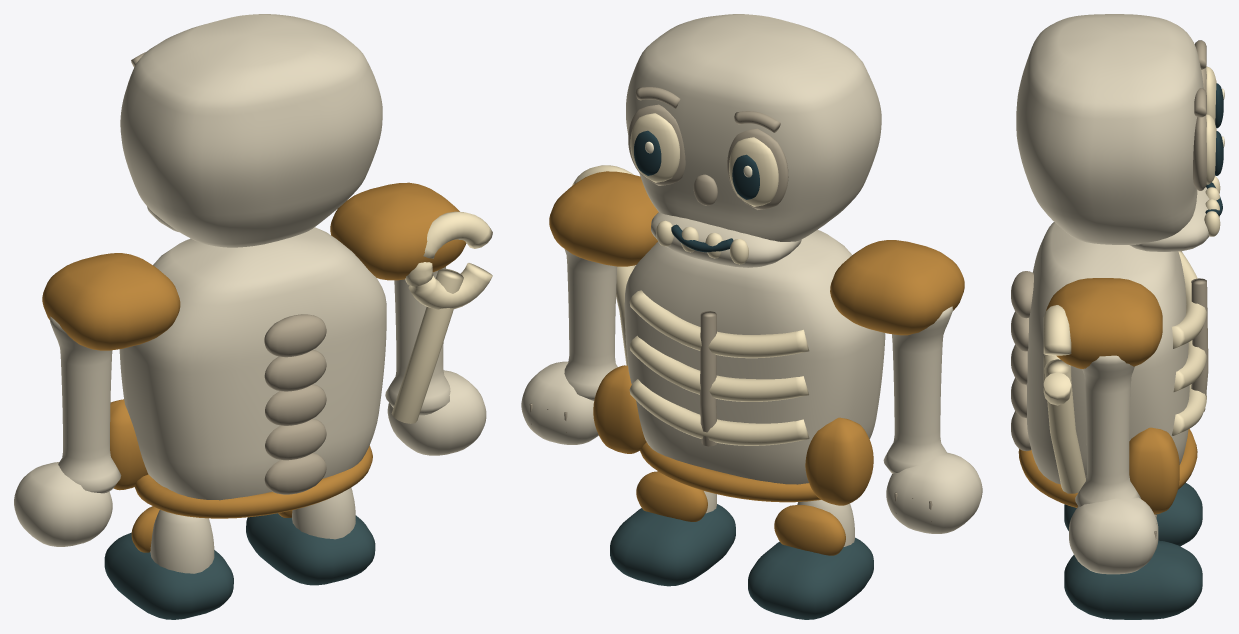
File: kaka_art18.glb
3 views of the same model, side by side, from view 1: azimuth 30°, elevation 25°; view 2: azimuth 150°, elevation 25°; view 3: azimuth 270°, elevation 25° (orthographic). The views are drawn at different scales.
Visible parts, largest first — view 1: KakaHead_Bone ivory, KakaBody_Bone ivory, KakaBody_Warm seam, KakaBody_Bone warm edge, KakaBody_Cream ceramic, KakaArmL_Bone ivory, KakaLegL_Soft sole, KakaLegR_Soft sole, KakaFistL_Bone ivory, KakaFistR_Bone ivory, KakaLegL_Bone ivory, KakaArmR_Bone ivory (+2 smaller); view 2: KakaHead_Bone ivory, KakaBody_Bone ivory, KakaBody_Warm seam, KakaBody_Cream ceramic, KakaLegR_Soft sole, KakaLegL_Soft sole, KakaArmL_Bone ivory, KakaArmR_Bone ivory, KakaFistL_Bone ivory, KakaHead_Cream ceramic, KakaFistR_Bone ivory, KakaHead_Bone warm edge (+5 smaller); view 3: KakaHead_Bone ivory, KakaBody_Bone ivory, KakaBody_Warm seam, KakaBody_Cream ceramic, KakaLegR_Soft sole, KakaArmR_Bone ivory, KakaFistR_Bone ivory, KakaBody_Bone warm edge, KakaLegL_Soft sole, KakaHead_Cream ceramic, KakaHead_Bone warm edge, KakaHead_Ink eyes (+1 smaller).
Boxes of the visible parts, left/top/right/bottom form: KakaHead_Bone ivory: left=120, top=14, right=382, bottom=247; KakaBody_Bone ivory: left=119, top=227, right=386, bottom=500; KakaBody_Warm seam: left=42, top=182, right=466, bottom=518; KakaBody_Bone warm edge: left=264, top=314, right=326, bottom=494; KakaBody_Cream ceramic: left=391, top=211, right=492, bottom=423; KakaArmL_Bone ivory: left=50, top=316, right=121, bottom=493; KakaLegL_Soft sole: left=104, top=532, right=233, bottom=619; KakaLegR_Soft sole: left=246, top=513, right=375, bottom=585; KakaFistL_Bone ivory: left=14, top=462, right=112, bottom=546; KakaFistR_Bone ivory: left=387, top=370, right=486, bottom=455; KakaLegL_Bone ivory: left=150, top=509, right=214, bottom=573; KakaArmR_Bone ivory: left=385, top=266, right=450, bottom=415; KakaHead_Bone ivory: left=626, top=14, right=881, bottom=267; KakaBody_Bone ivory: left=624, top=229, right=885, bottom=484; KakaBody_Warm seam: left=549, top=171, right=964, bottom=505; KakaBody_Cream ceramic: left=572, top=165, right=809, bottom=445; KakaLegR_Soft sole: left=610, top=504, right=735, bottom=586; KakaLegL_Soft sole: left=748, top=537, right=873, bottom=619; KakaArmL_Bone ivory: left=883, top=306, right=953, bottom=473; KakaArmR_Bone ivory: left=564, top=249, right=617, bottom=400; KakaFistL_Bone ivory: left=886, top=452, right=982, bottom=533; KakaHead_Cream ceramic: left=630, top=113, right=778, bottom=264; KakaFistR_Bone ivory: left=521, top=361, right=598, bottom=444; KakaHead_Bone warm edge: left=628, top=104, right=788, bottom=209; KakaHead_Bone ivory: left=1016, top=14, right=1209, bottom=251; KakaBody_Bone ivory: left=1026, top=222, right=1189, bottom=484; KakaBody_Warm seam: left=1018, top=278, right=1197, bottom=514; KakaBody_Cream ceramic: left=1043, top=251, right=1206, bottom=493; KakaLegR_Soft sole: left=1064, top=540, right=1202, bottom=619; KakaArmR_Bone ivory: left=1075, top=355, right=1140, bottom=506; KakaFistR_Bone ivory: left=1069, top=497, right=1158, bottom=574; KakaBody_Bone warm edge: left=1011, top=271, right=1208, bottom=451; KakaLegL_Soft sole: left=1064, top=483, right=1202, bottom=546; KakaHead_Cream ceramic: left=1204, top=66, right=1220, bottom=236; KakaHead_Bone warm edge: left=1193, top=66, right=1206, bottom=190; KakaHead_Ink eyes: left=1215, top=83, right=1223, bottom=175.
Bounding box in the file's own units: 1.8 × 2.13 × 0.758.
